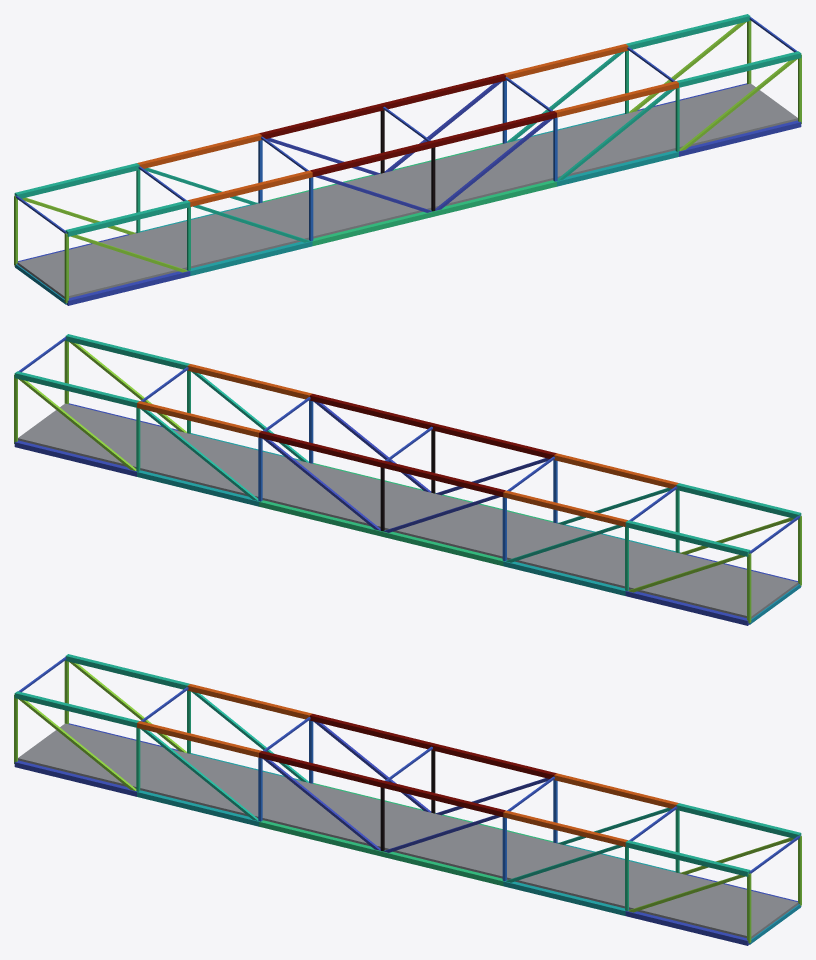
The model's file is 25_2.25_6_HEA160.glb.
3 views of the same model, one above another, from view 1: azimuth 30°, elevation 25°; view 2: azimuth 150°, elevation 25°; view 3: azimuth 330°, elevation 25° (orthographic).
Bounding box in the file's own units: 25.09 × 2.41 × 3.16.
